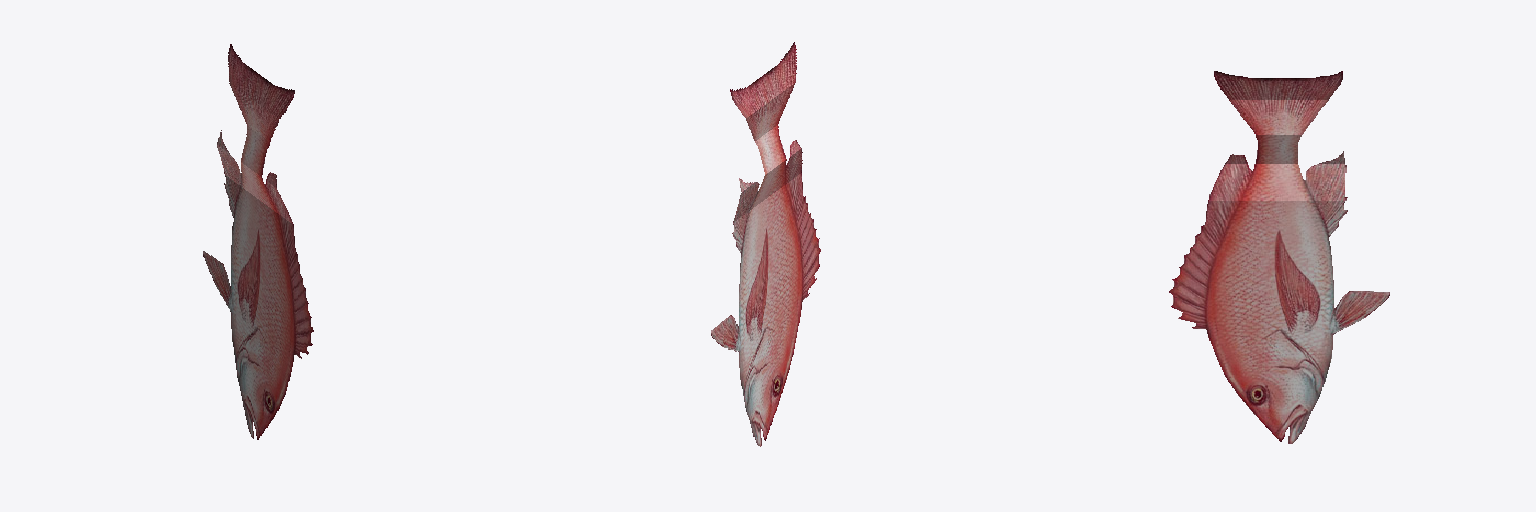
3 renders of one model, left to right at view 1: azimuth 30°, elevation 25°; view 2: azimuth 150°, elevation 25°; view 3: azimuth 270°, elevation 25°, orthographic.
Size of the model in its own units: 0.0702 by 1.98 by 1.06.
Materials: 1 (1 with a texture image).